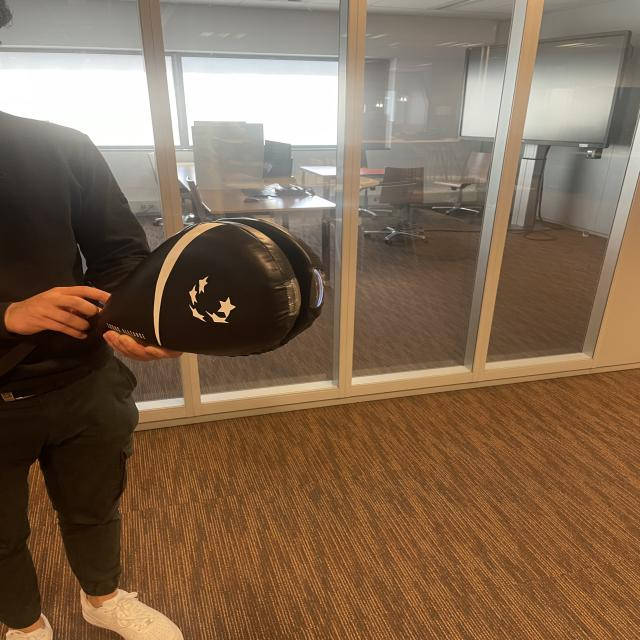paddle: (133, 216, 326, 352)
trigger: (309, 264, 327, 308)
